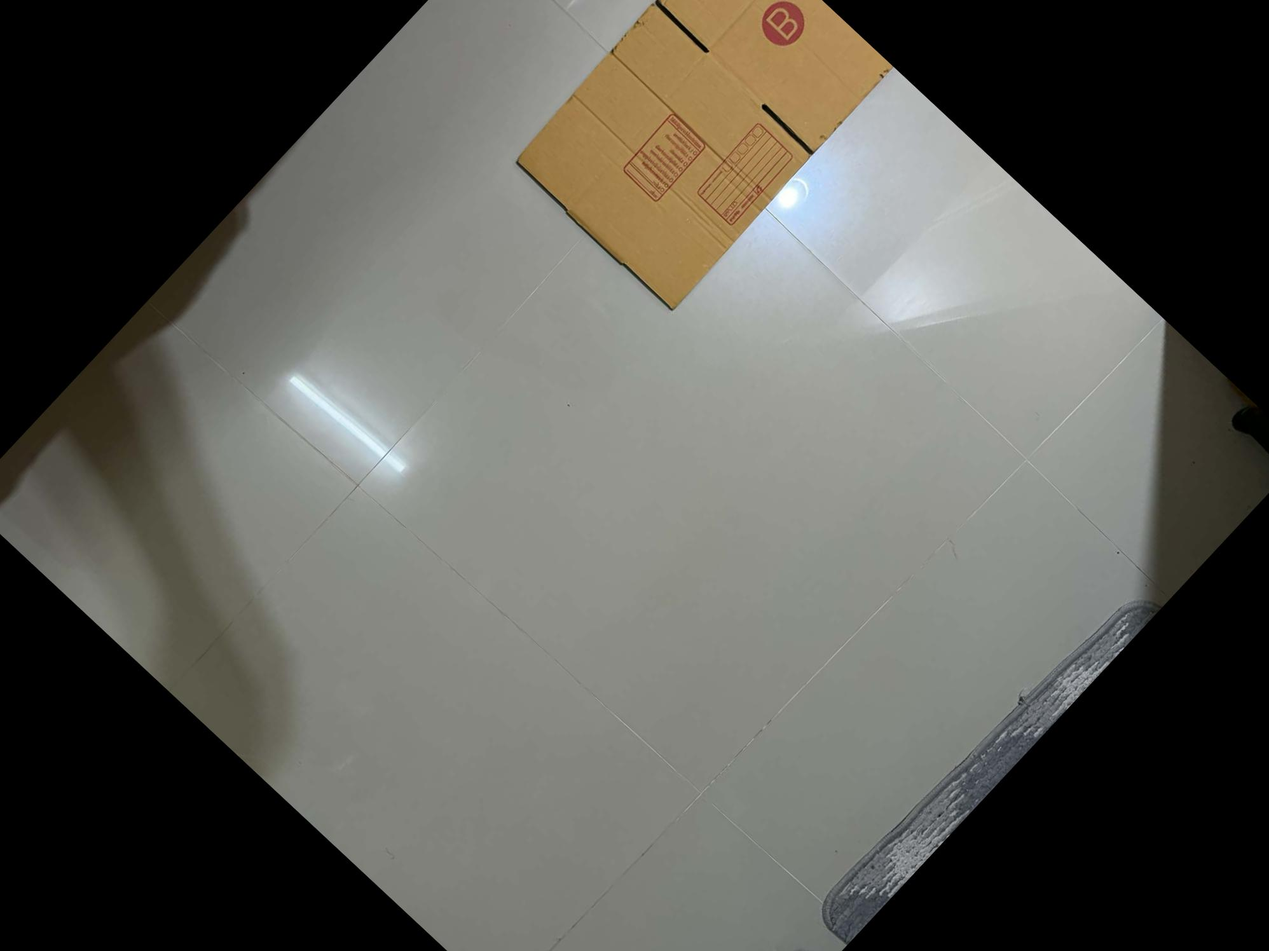box: (688, 116, 799, 229), (616, 106, 714, 206), (753, 0, 815, 53)
class0: (497, 0, 903, 322)
